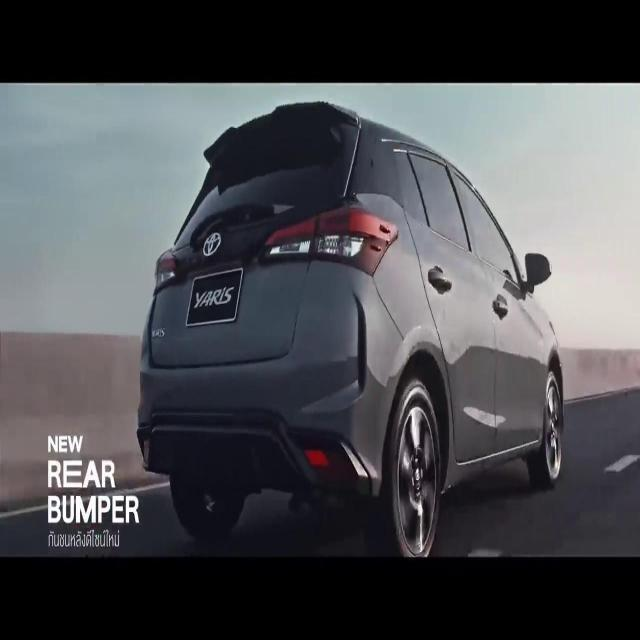Hatchback: (136, 101, 564, 556)
